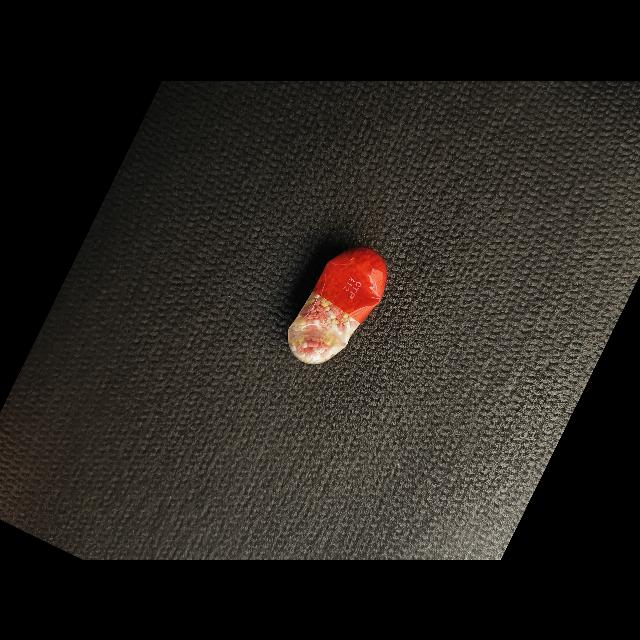Defective Capsule: (288, 247, 387, 364)
